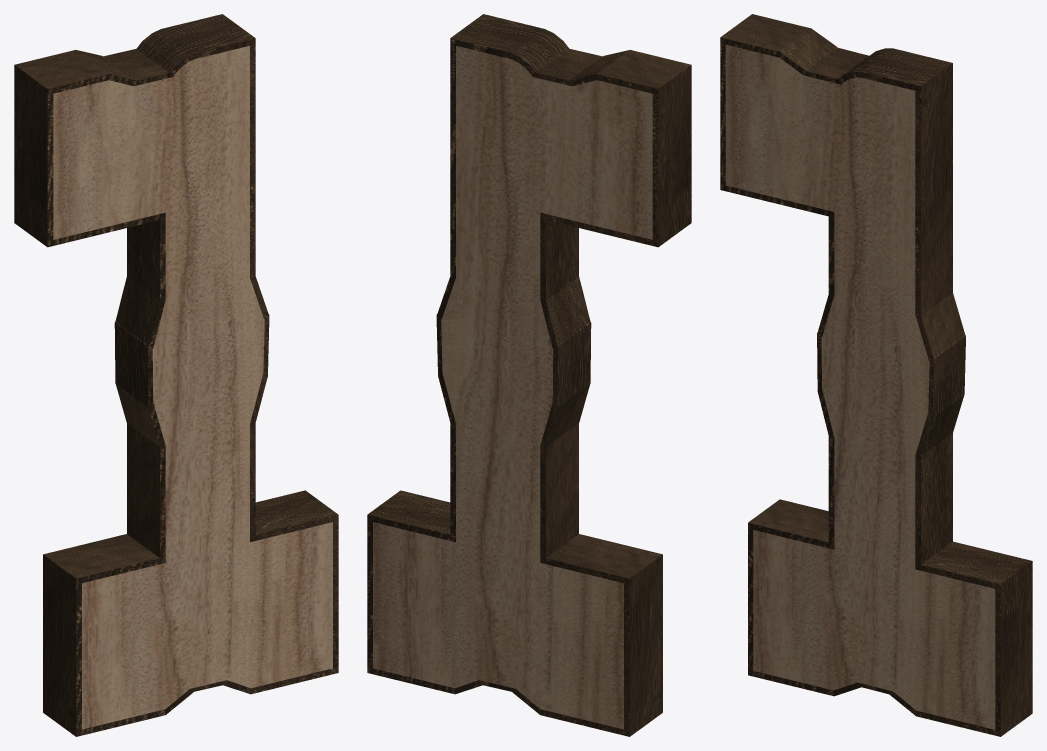
3 renders of one model, left to right at view 1: azimuth 30°, elevation 25°; view 2: azimuth 150°, elevation 25°; view 3: azimuth 330°, elevation 25°, orthographic. The views are drawn at different scales.
Parts seen in each view (by area): view 1: 1, 1_outline; view 2: 1, 1_outline; view 3: 1, 1_outline.
Part boxes in pixels (left/top/right/bottom): 1: left=53, top=46, right=332, bottom=729; 1_outline: left=14, top=14, right=338, bottom=736; 1: left=373, top=46, right=652, bottom=729; 1_outline: left=367, top=14, right=691, bottom=736; 1: left=725, top=44, right=995, bottom=729; 1_outline: left=720, top=14, right=1032, bottom=736.
Size of the model in its own units: 50.6 by 109 by 10.
2 materials, 2 textured.
